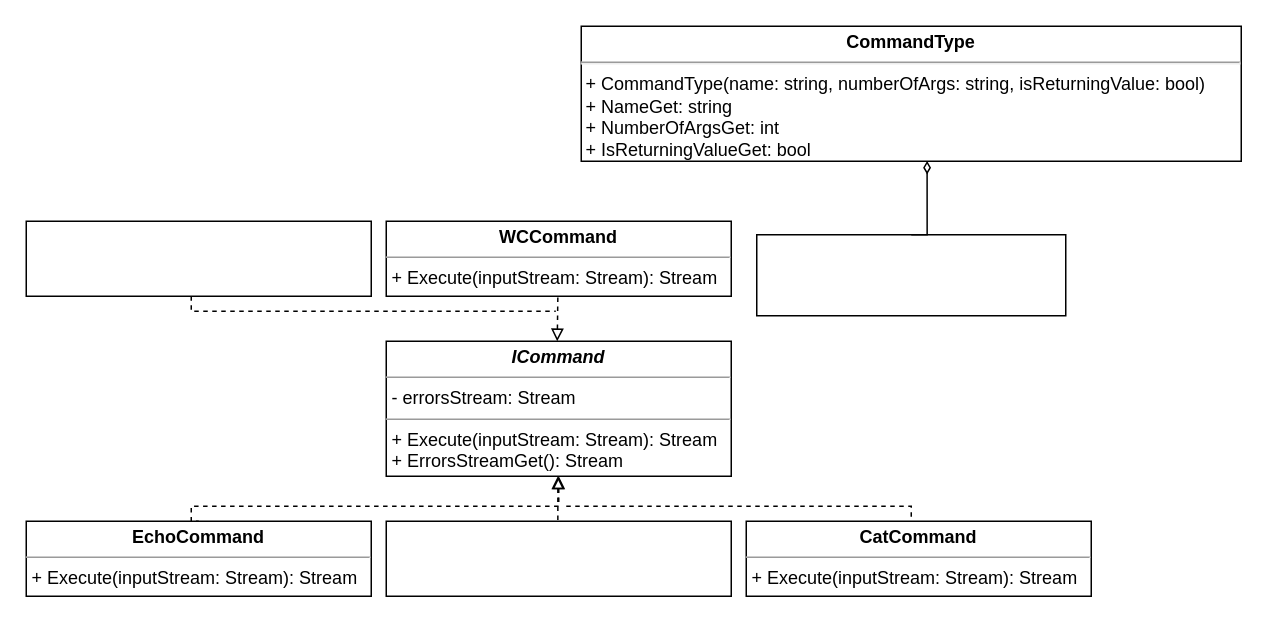
This 1268x623 diagram has some shape labels left out. The shapes that lost their labels are listed below. From the top down, each one's centre as x and y in pixels, then its label:
At pixel 198 258: "PWDCommand + Execute(inputStream: Stream): Stream".
At pixel 910 274: "Commands + CommandsGet: CommandType [*]".
At pixel 558 558: "ExitCommand + Execute(inputStream: Stream): Stream".
